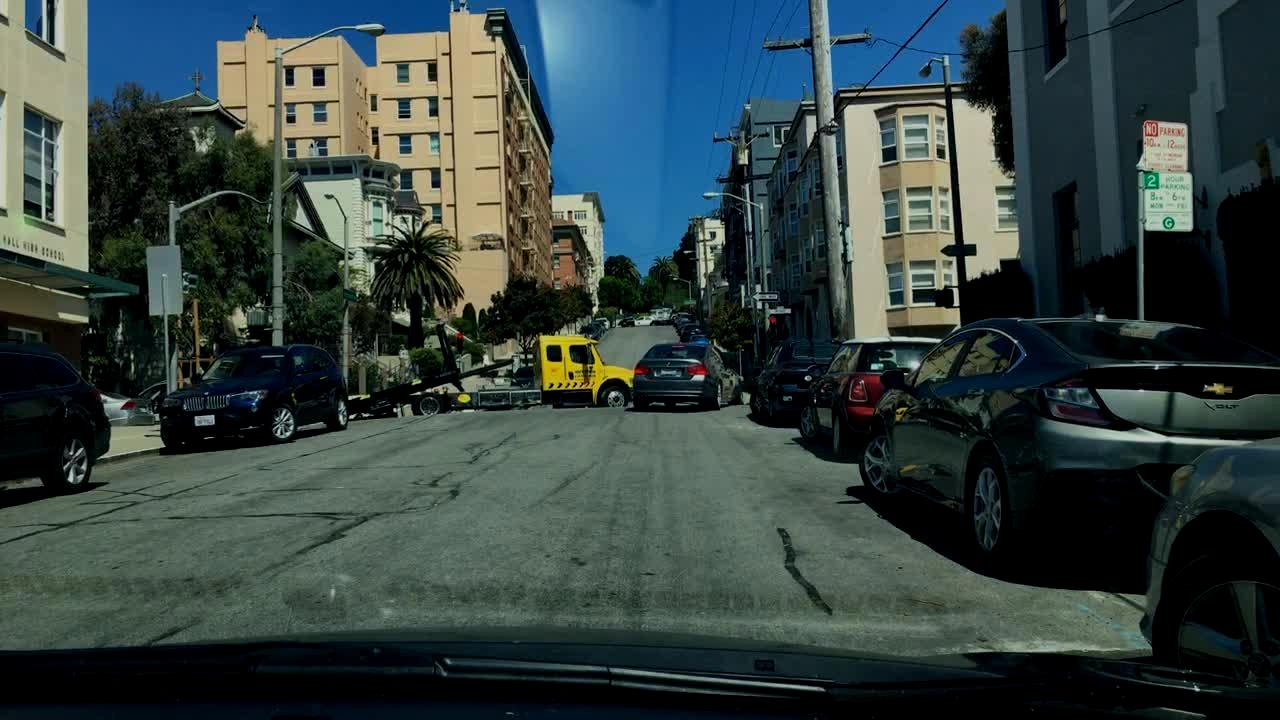chevrolet: (1193, 371, 1247, 407)
